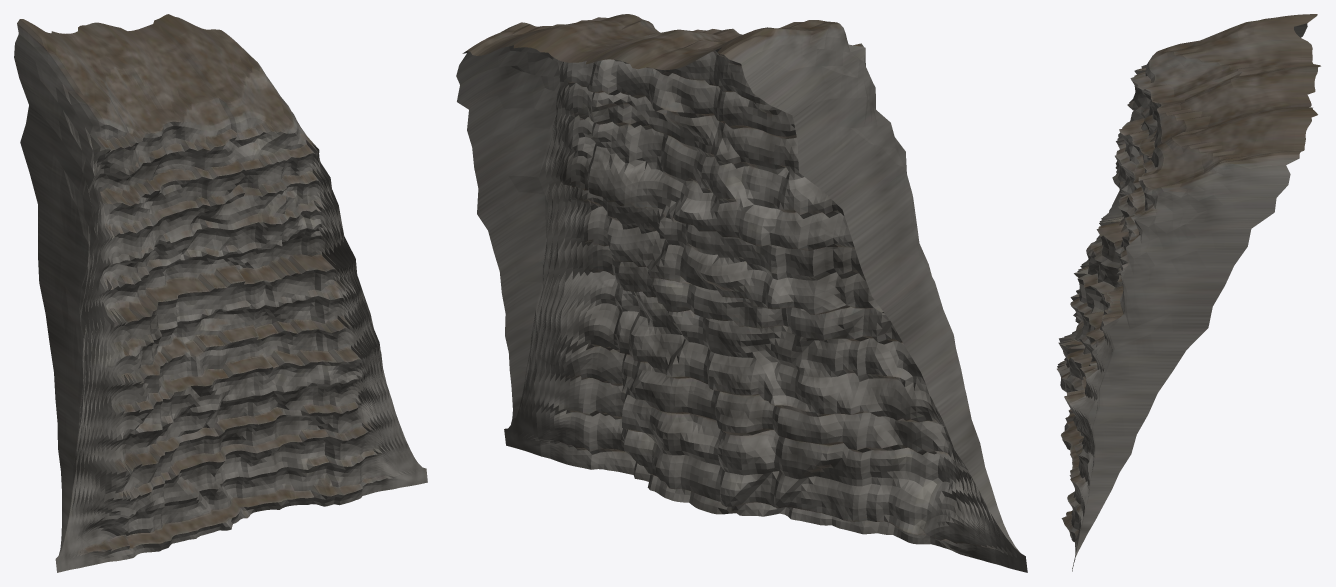
File: SM_cliff_02.fbx
The picture shows the model from 3 angles, left to right: view 1: azimuth 30°, elevation 25°; view 2: azimuth 150°, elevation 25°; view 3: azimuth 270°, elevation 25°; orthographic projection. The views are drawn at different scales.
Parts seen in each view (by area): view 1: SM_cliff_02; view 2: SM_cliff_02; view 3: SM_cliff_02.
Boxes of the visible parts, bbox=[...] form: SM_cliff_02: bbox=[14, 14, 427, 572]; SM_cliff_02: bbox=[456, 14, 1027, 572]; SM_cliff_02: bbox=[1057, 14, 1320, 571].
Bounding box in the file's own units: 24 × 27.16 × 15.33.
